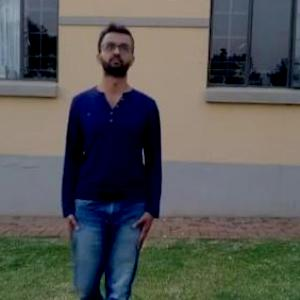follow: (59, 19, 164, 299)
